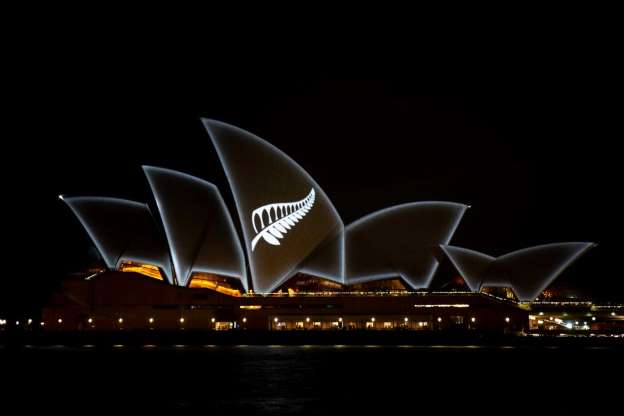opera house: (36, 99, 599, 315)
